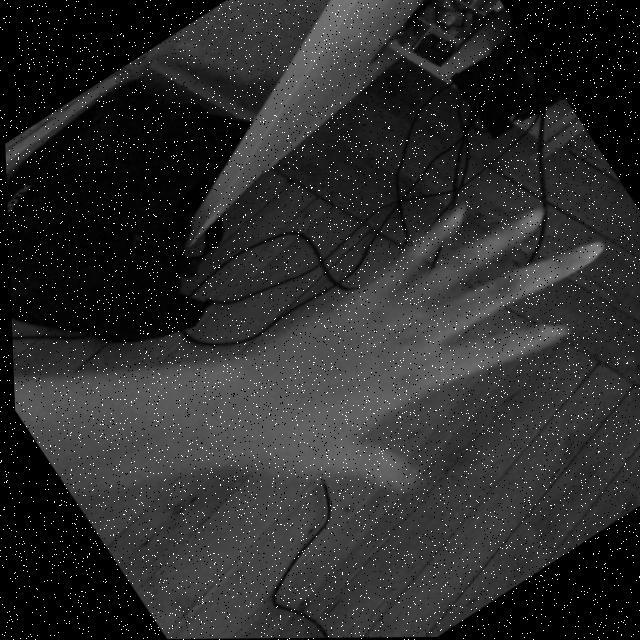no-gloves: (203, 149, 640, 545)
